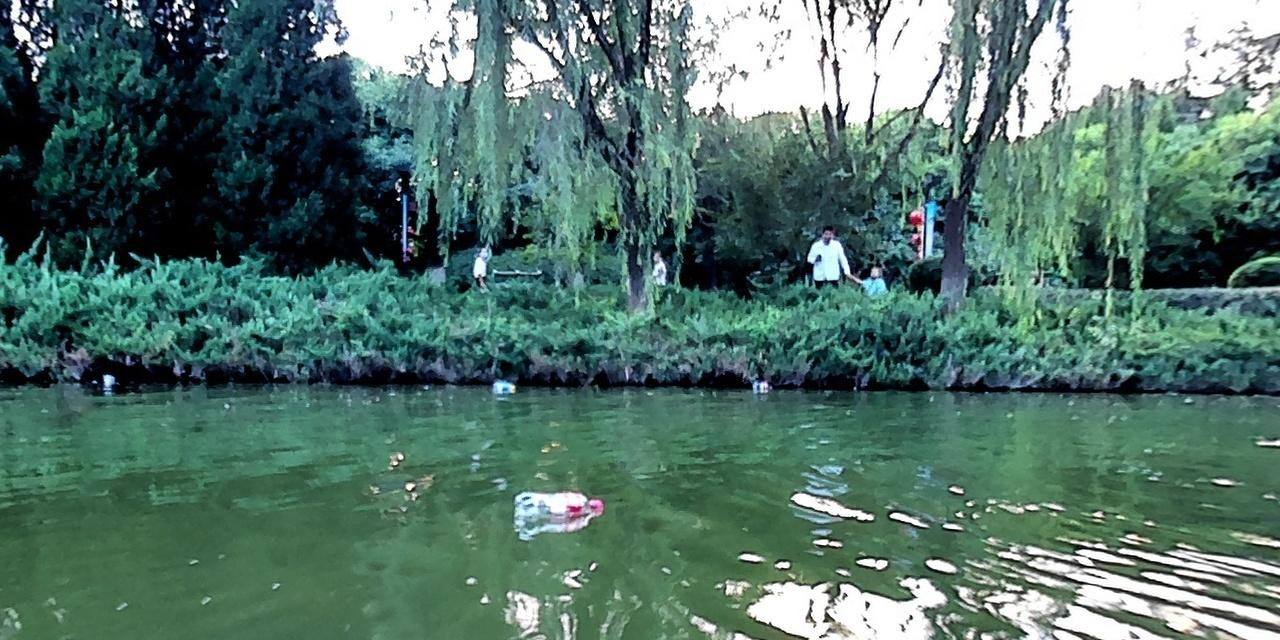bottle: (511, 488, 604, 524), (490, 377, 514, 396), (747, 378, 770, 395), (95, 371, 116, 388)
